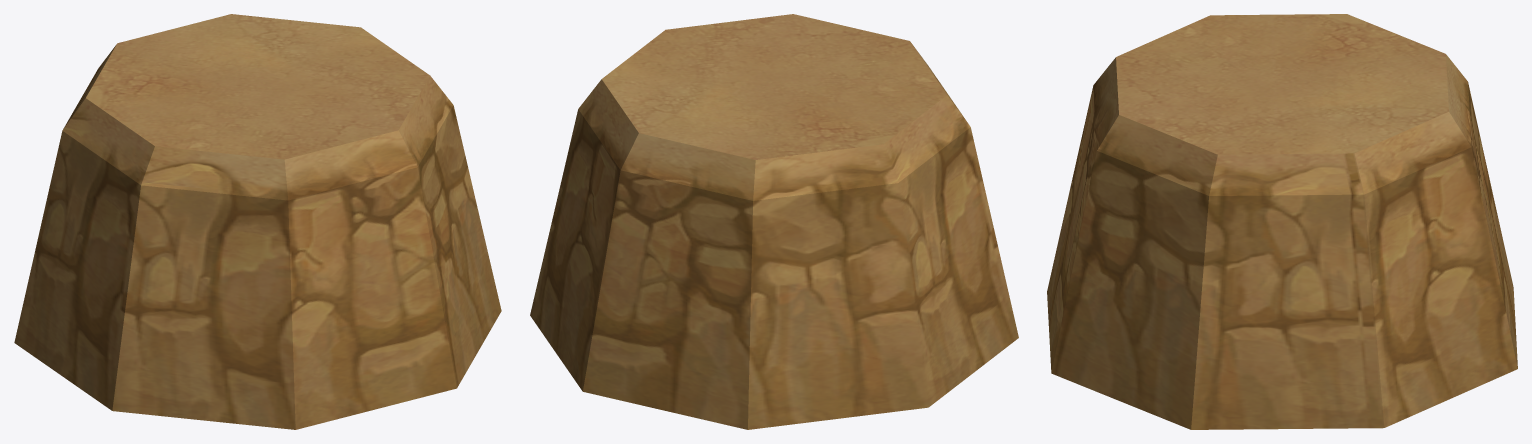
The model's file is blank_R.FBX.
3 views of the same model, side by side, from view 1: azimuth 30°, elevation 25°; view 2: azimuth 150°, elevation 25°; view 3: azimuth 270°, elevation 25° (orthographic). The views are drawn at different scales.
Visible parts, largest first — view 1: Cylinder002; view 2: Cylinder002; view 3: Cylinder002.
Boxes of the visible parts, left/top/right/bottom form: Cylinder002: left=14, top=14, right=501, bottom=429; Cylinder002: left=530, top=14, right=1018, bottom=429; Cylinder002: left=1047, top=14, right=1517, bottom=429.
Size of the model in its own units: 94.25 by 54.34 by 94.25.
